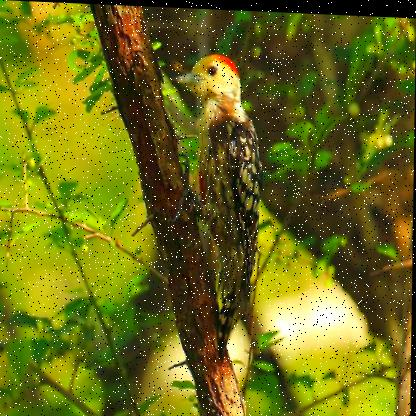Burung: (168, 48, 264, 364)
